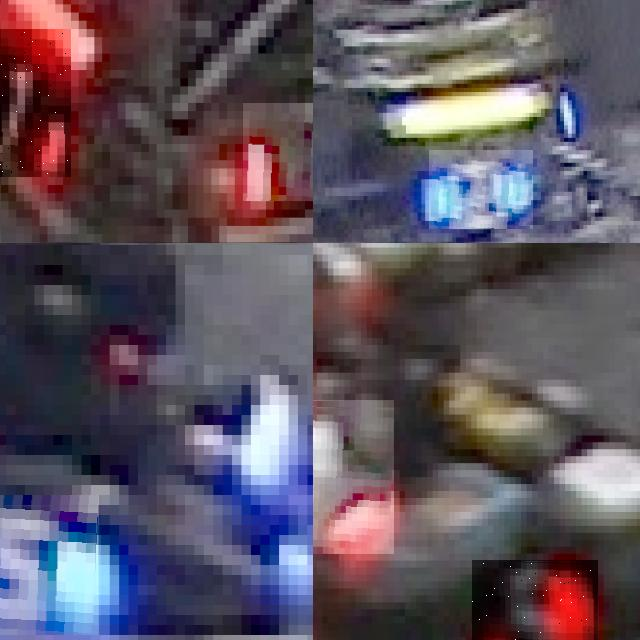B2: (429, 150, 533, 229)
B5: (0, 495, 100, 635)
R1: (0, 29, 71, 176), (242, 102, 313, 201)
R5: (313, 400, 394, 553), (471, 560, 598, 640)
